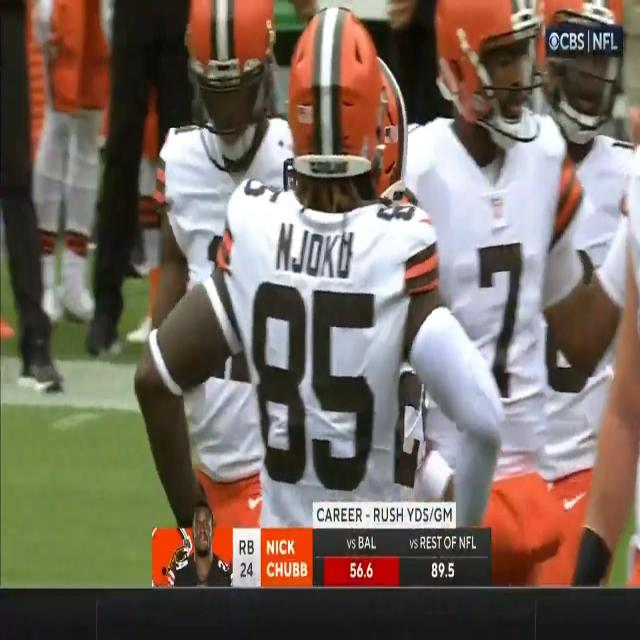players: (260, 9, 426, 523), (433, 0, 553, 578), (175, 2, 278, 520)
